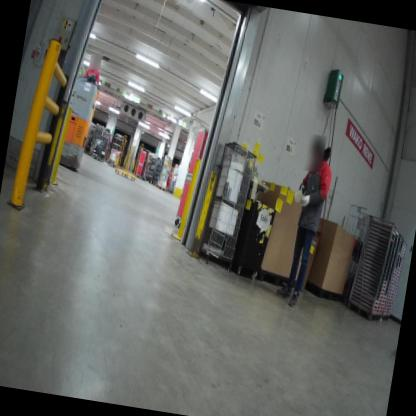pallet_truck: (46, 63, 107, 183)
